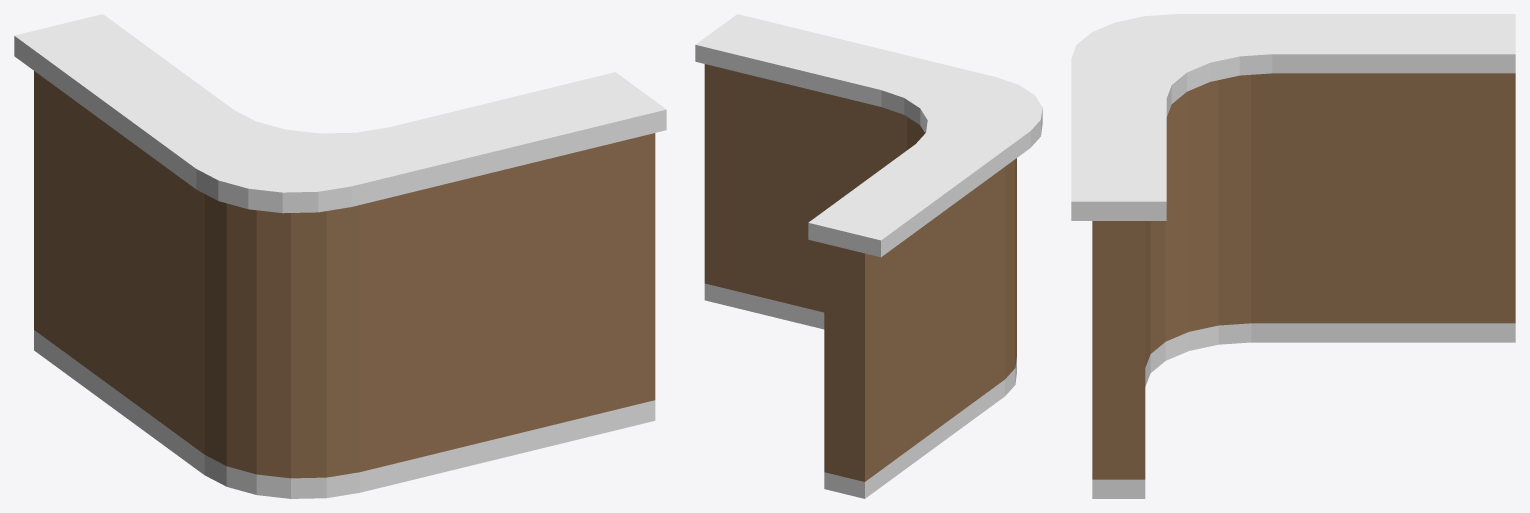
Rendered from SM_200x150_HalfWall_CurveCorner.fbx.
3 renders of one model, left to right at view 1: azimuth 30°, elevation 25°; view 2: azimuth 150°, elevation 25°; view 3: azimuth 270°, elevation 25°, orthographic. The views are drawn at different scales.
Parts seen in each view (by area): view 1: SM_200x150_HalfWall_CurveCorner; view 2: SM_200x150_HalfWall_CurveCorner; view 3: SM_200x150_HalfWall_CurveCorner.
Boxes of the visible parts, box(x1,y1,x2,y2) form: SM_200x150_HalfWall_CurveCorner: box(14, 14, 666, 498); SM_200x150_HalfWall_CurveCorner: box(695, 14, 1042, 498); SM_200x150_HalfWall_CurveCorner: box(1071, 14, 1515, 498).
Size of what is drawn, in the model's own units: 210 by 210 by 155.
